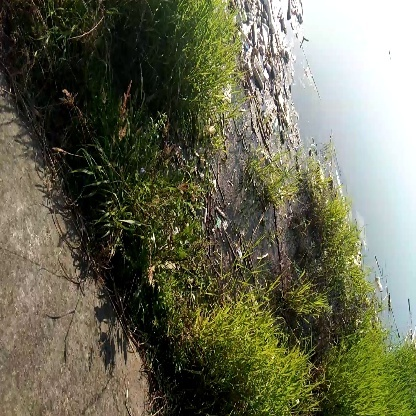grass: (204, 308, 298, 402)
